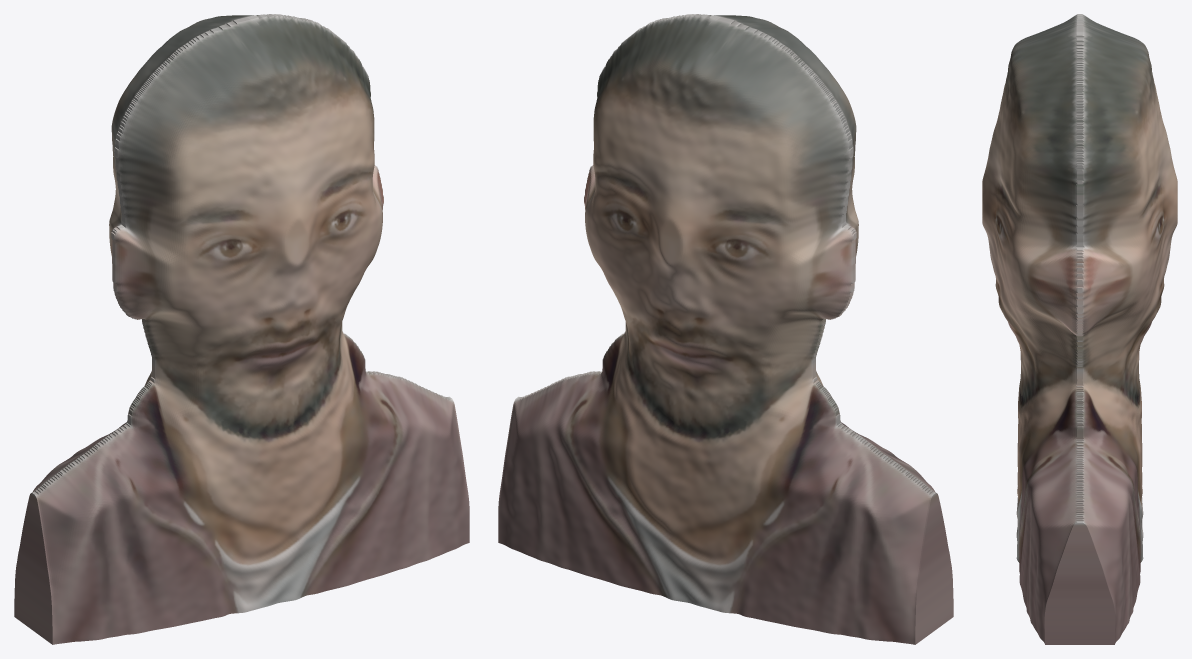
File: modelo_3d.glb
3 renders of one model, left to right at view 1: azimuth 30°, elevation 25°; view 2: azimuth 150°, elevation 25°; view 3: azimuth 270°, elevation 25°, orthographic. The views are drawn at different scales.
Parts seen in each view (by area): view 1: geometry_0; view 2: geometry_0; view 3: geometry_0.
Boxes of the visible parts, x1,y1,x2,y2 form: geometry_0: (14, 14, 469, 644); geometry_0: (498, 14, 953, 644); geometry_0: (982, 14, 1177, 644).
Bounding box in the file's own units: 2.53 × 3.25 × 1.1.
